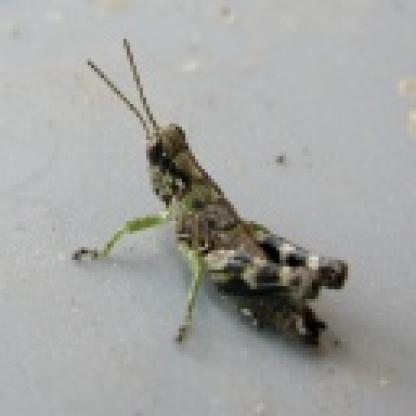grasshopper: (64, 36, 353, 348)
